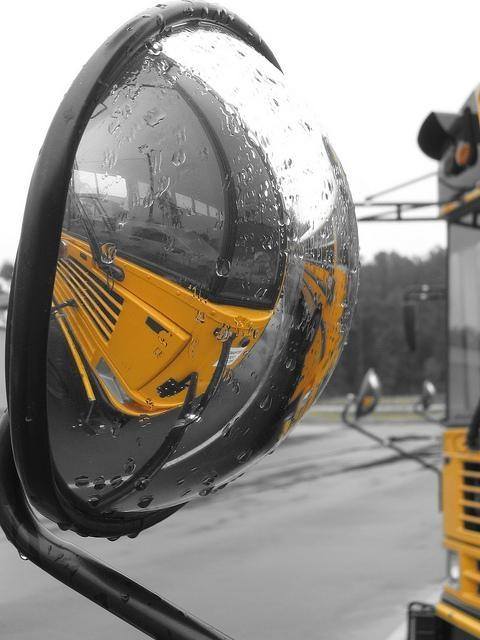bus: (1, 6, 478, 630)
